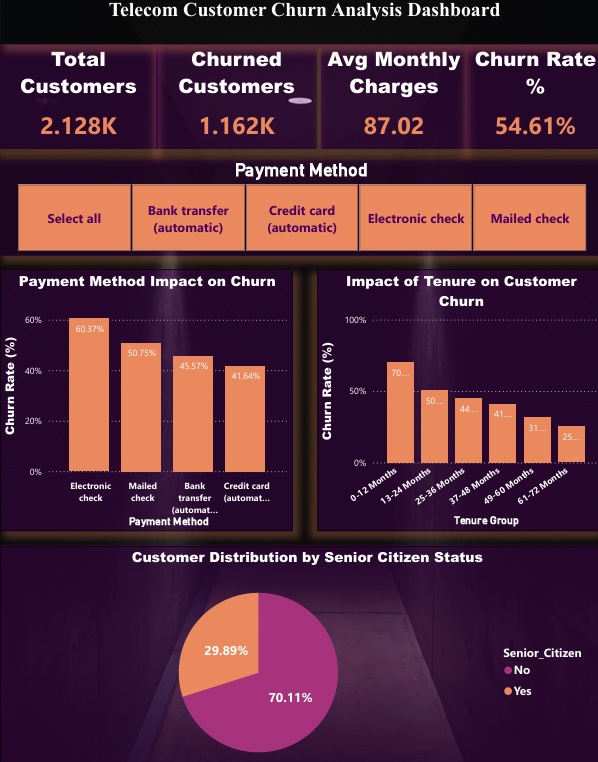

The page's visual inventory and layout, read from the dashboard file:
{"tool":"powerbi","page":{"name":"Page 1","canvas":[816,1056],"ordinal":0},"visuals":[{"type":"cardVisual","title":"Total Customers","fields":{"Data":["CountNonNull(EXPORTED_DATA_REAL_FINAL.Customer_ID)"]},"box":[0,66.7,215,141.7],"z":0},{"type":"cardVisual","title":"Churned Customers","fields":{"Data":["EXPORTED_DATA_REAL_FINAL.Churned_Customers"]},"box":[211.7,66.7,218.3,141.7],"z":1000},{"type":"cardVisual","title":"Avg Monthly Charges","fields":{"Data":["EXPORTED_DATA_REAL_FINAL.Average_Monthly_Charges"]},"box":[435,66.7,196.7,141.7],"z":2000},{"type":"cardVisual","title":"Churn Rate %","fields":{"Data":["EXPORTED_DATA_REAL_FINAL.Churn Rate"]},"box":[631.7,66.7,185,141.7],"z":3000},{"type":"columnChart","title":"Payment Method Impact on Churn","fields":{"Category":["EXPORTED_DATA_REAL_FINAL.Payment_Method"],"Y":["EXPORTED_DATA_REAL_FINAL.Churn Rate"]},"box":[1.7,370,395,353.3],"z":4000},{"type":"clusteredColumnChart","title":"Impact of Tenure on Customer Churn","fields":{"Category":["EXPORTED_DATA_REAL_FINAL.Tenure Group"],"Y":["EXPORTED_DATA_REAL_FINAL.Churn Rate"]},"box":[430,370,386.7,353.3],"z":5000},{"type":"pieChart","title":"Customer Distribution by Senior Citizen Status","fields":{"Category":["EXPORTED_DATA_REAL_FINAL.Senior_Citizen"],"Y":["CountNonNull(EXPORTED_DATA_REAL_FINAL.Customer_ID)"]},"box":[1.7,743.3,815,313.3],"z":6000},{"type":"slicer","title":"Payment Method","fields":{"Values":["EXPORTED_DATA_REAL_FINAL.Payment_Method"]},"box":[0,221.7,816.7,130],"z":7000},{"type":"textbox","box":[1.7,0,815,66.7],"z":8000}]}

Visuals, with their boxes in screenshot pixels (x1, y1, x2, y2), scaled from the page's 816x1056 canvas onto the 598x762 screenshot:
"Total Customers" cardVisual: BBox(0, 48, 158, 150)
"Churned Customers" cardVisual: BBox(155, 48, 315, 150)
"Avg Monthly Charges" cardVisual: BBox(319, 48, 463, 150)
"Churn Rate %" cardVisual: BBox(463, 48, 597, 150)
"Payment Method Impact on Churn" columnChart: BBox(1, 267, 291, 522)
"Impact of Tenure on Customer Churn" clusteredColumnChart: BBox(315, 267, 597, 522)
"Customer Distribution by Senior Citizen Status" pieChart: BBox(1, 536, 597, 761)
"Payment Method" slicer: BBox(0, 160, 597, 254)
textbox: BBox(1, 0, 597, 48)
